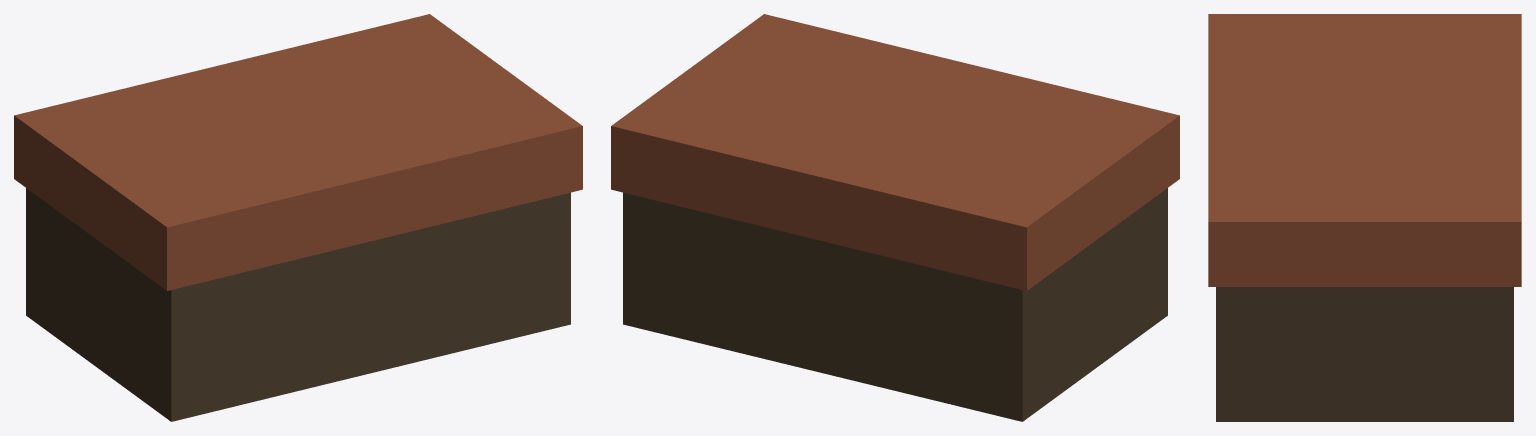
The model's file is SM_Prop_ShoeBox_03.glb.
The picture shows the model from 3 angles, left to right: view 1: azimuth 30°, elevation 25°; view 2: azimuth 150°, elevation 25°; view 3: azimuth 270°, elevation 25°; orthographic projection. The views are drawn at different scales.
Visible parts, largest first — view 1: SM_Prop_ShoeBox_03; view 2: SM_Prop_ShoeBox_03; view 3: SM_Prop_ShoeBox_03.
Boxes of the visible parts, <box> form: SM_Prop_ShoeBox_03: <box>14,14,582,421</box>; SM_Prop_ShoeBox_03: <box>611,14,1179,421</box>; SM_Prop_ShoeBox_03: <box>1208,14,1521,421</box>.
Size of the model in its own units: 0.2893 by 0.1325 by 0.1845.
Materials: 1 (1 with a texture image).
